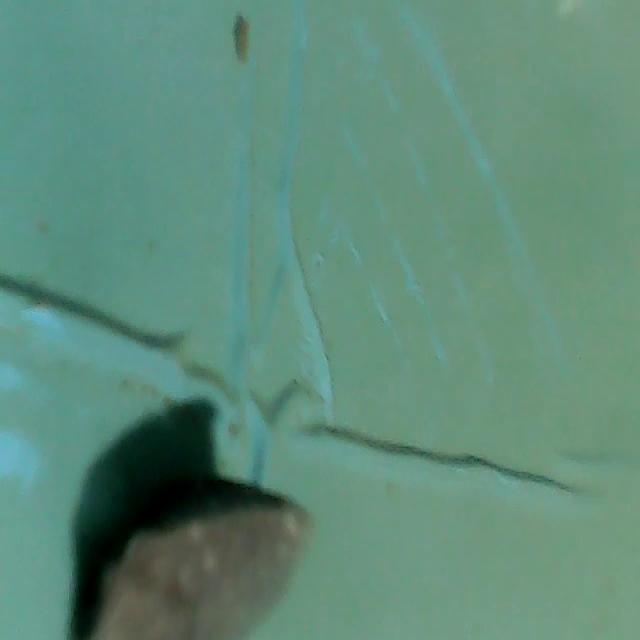rock: (82, 474, 322, 640)
